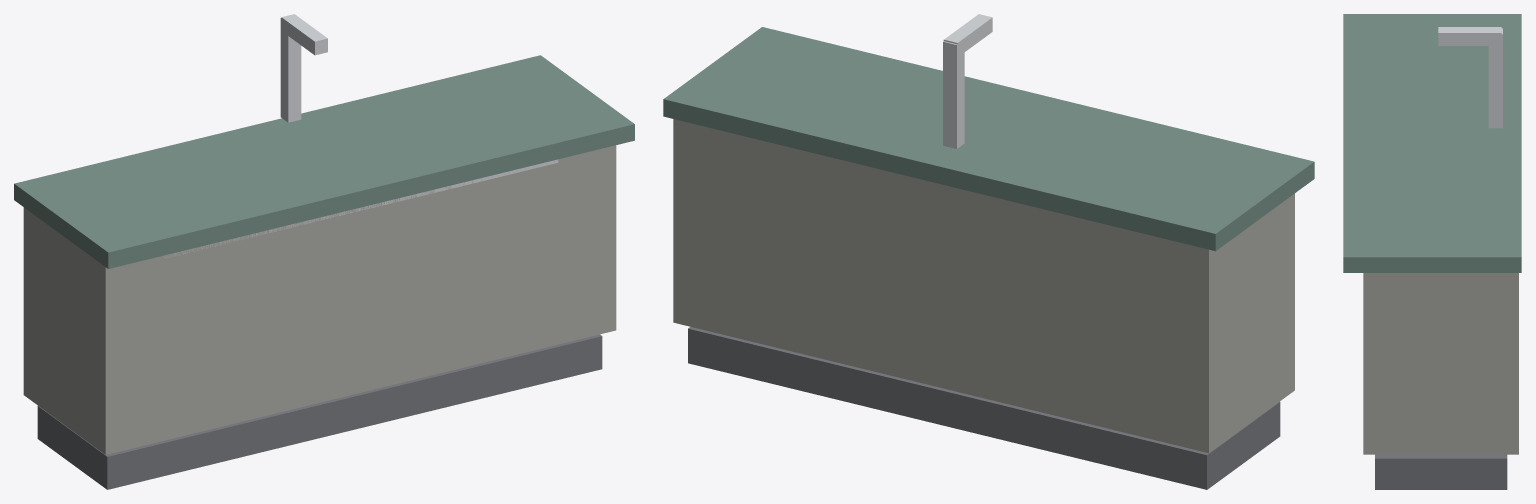
File: mov_4ea9c9d46d.gltf
3 renders of one model, left to right at view 1: azimuth 30°, elevation 25°; view 2: azimuth 150°, elevation 25°; view 3: azimuth 270°, elevation 25°, orthographic. The views are drawn at different scales.
Visible parts, largest first — view 1: mov_4ea9c9d46d; view 2: mov_4ea9c9d46d; view 3: mov_4ea9c9d46d.
Boxes of the visible parts, x1,y1,x2,y2 form: mov_4ea9c9d46d: (14, 14, 634, 489); mov_4ea9c9d46d: (663, 14, 1314, 489); mov_4ea9c9d46d: (1343, 14, 1521, 489).
Bounding box in the file's own units: 2 × 1.33 × 0.62.
